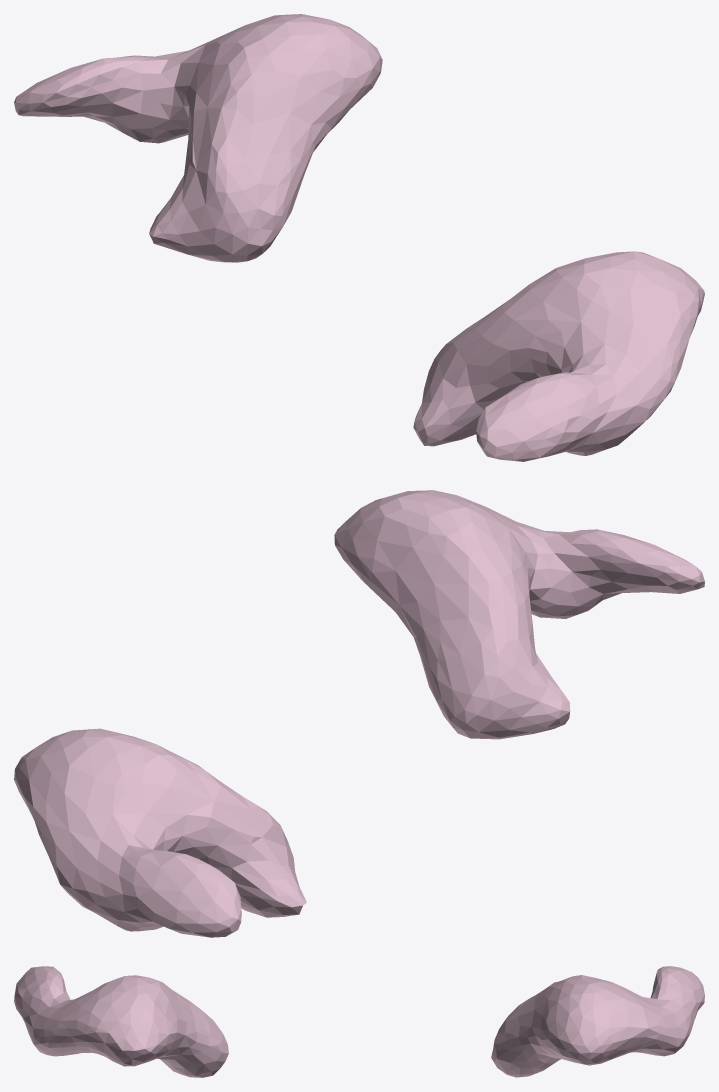
3 renders of one model, top to bottom at view 1: azimuth 30°, elevation 25°; view 2: azimuth 150°, elevation 25°; view 3: azimuth 270°, elevation 25°, orthographic. The views are drawn at different scales.
Parts seen in each view (by area): view 1: 235.obj; view 2: 235.obj; view 3: 235.obj.
Part boxes in pixels (x1,y1,x2,y2): 235.obj: [14, 14, 704, 461]; 235.obj: [14, 490, 704, 937]; 235.obj: [14, 966, 704, 1077].
Bounding box in the file's own units: 1318 × 763 × 3824.
